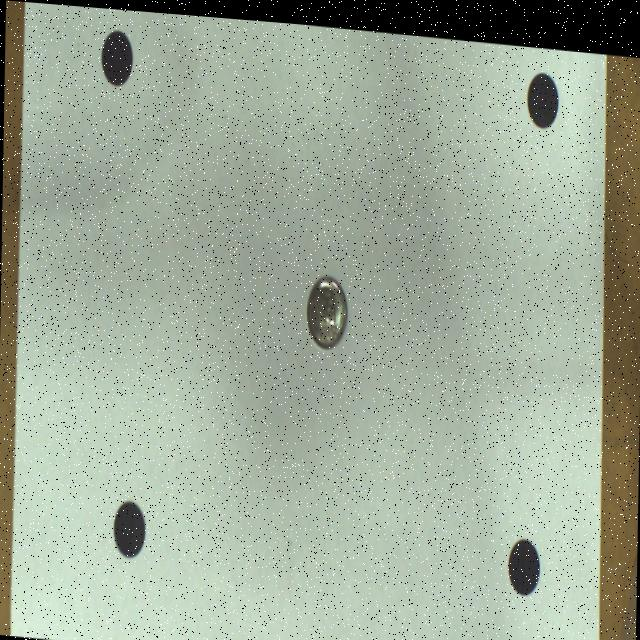head1bath: (306, 270, 347, 342)
space: (113, 498, 145, 556), (507, 530, 540, 586), (527, 62, 559, 119), (101, 28, 132, 84)
